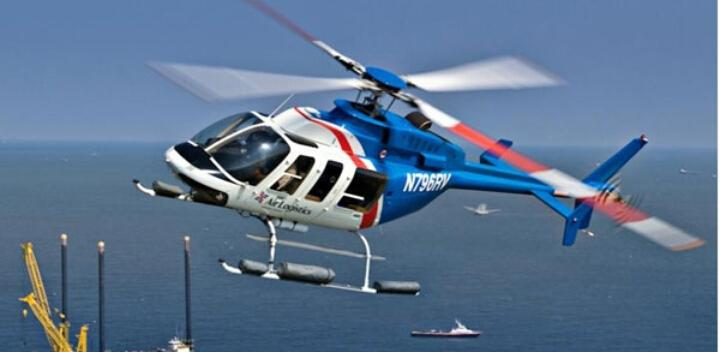airplane: (146, 27, 708, 297)
